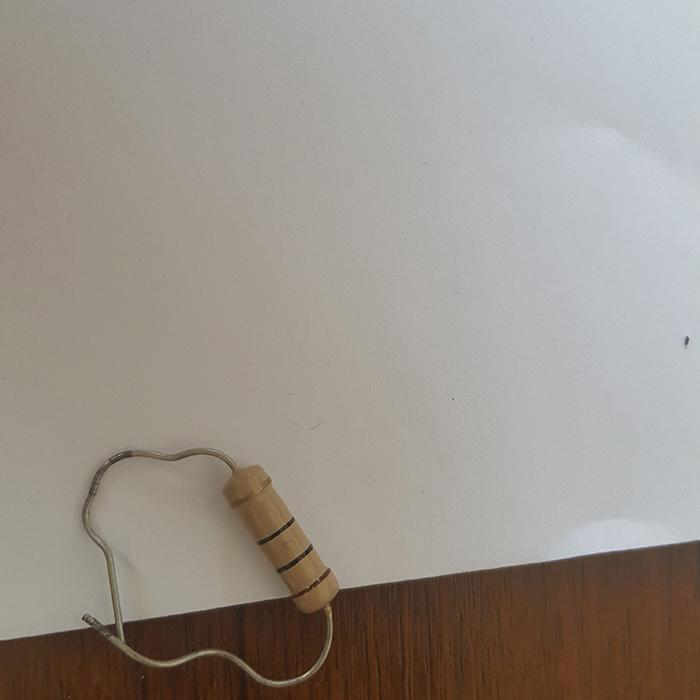resistor: (223, 463, 337, 610)
